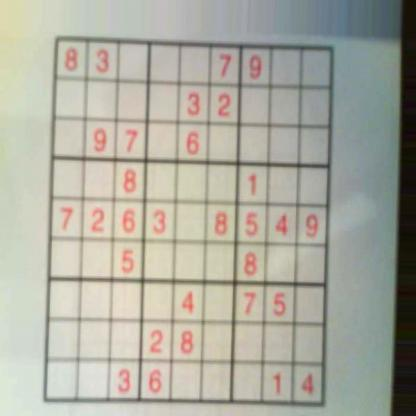sudoku: (40, 32, 337, 412)
